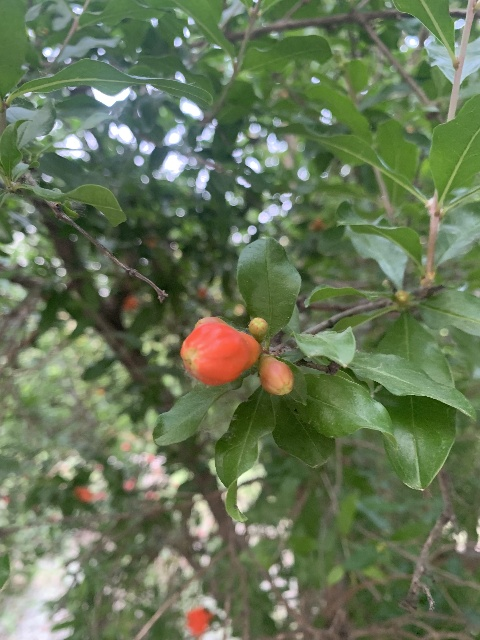bud: (180, 320, 260, 386), (258, 355, 294, 396), (249, 317, 267, 343)
flower: (185, 609, 213, 637)
